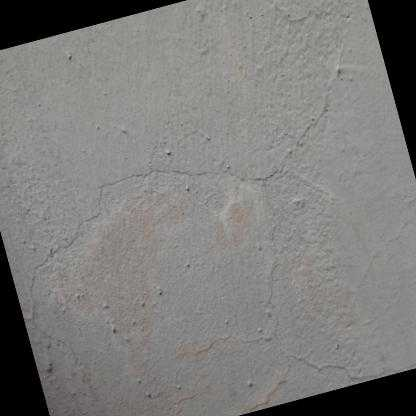crack: (24, 102, 327, 325)
